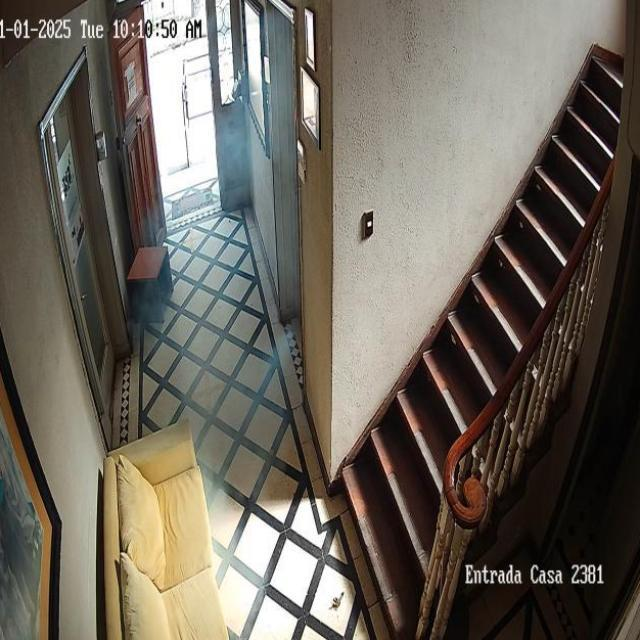fire: (132, 5, 296, 640)
